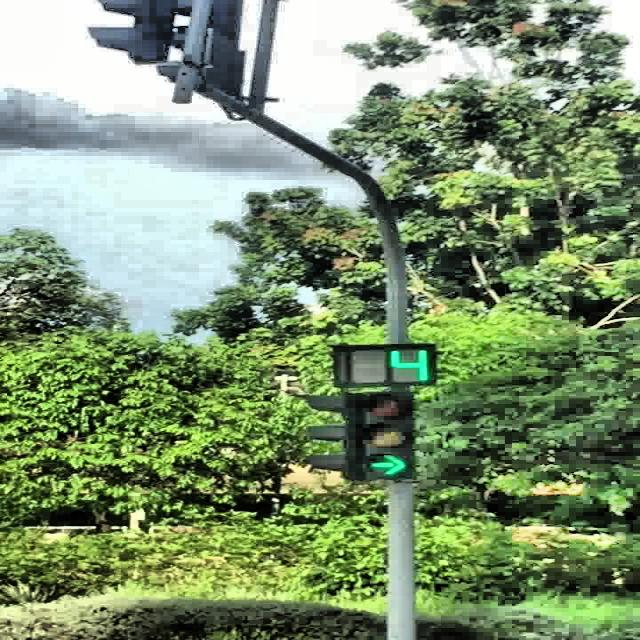green: (360, 392, 415, 481)
